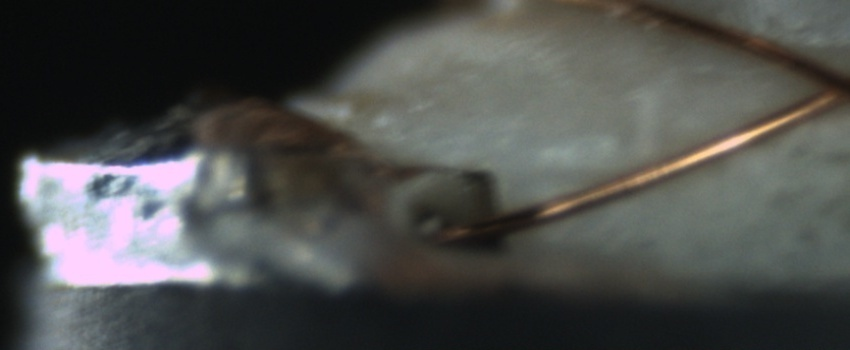CL: (799, 53, 850, 117)
